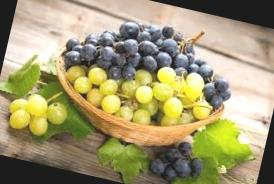Grape Rotten: (52, 2, 243, 142), (4, 88, 71, 142), (148, 136, 207, 184)
